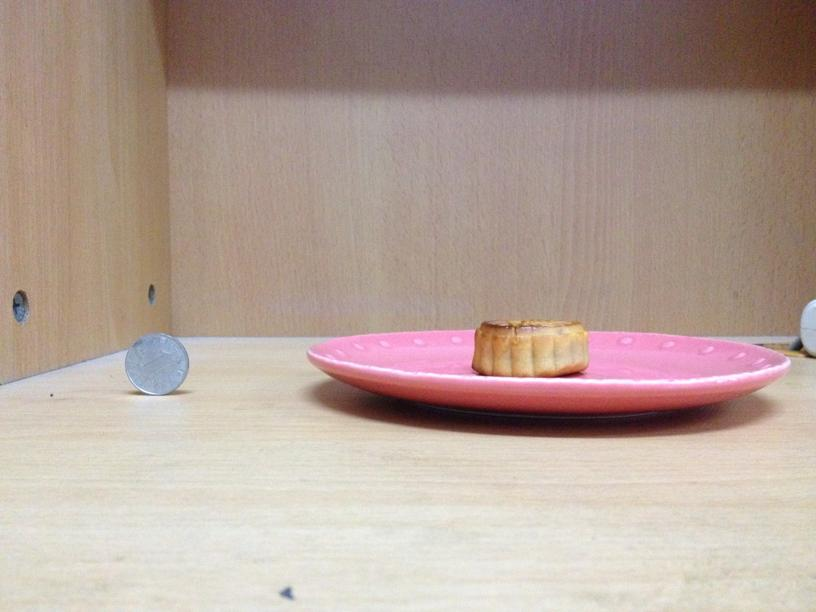coin: (125, 334, 187, 394)
mooncake: (467, 318, 591, 376)
